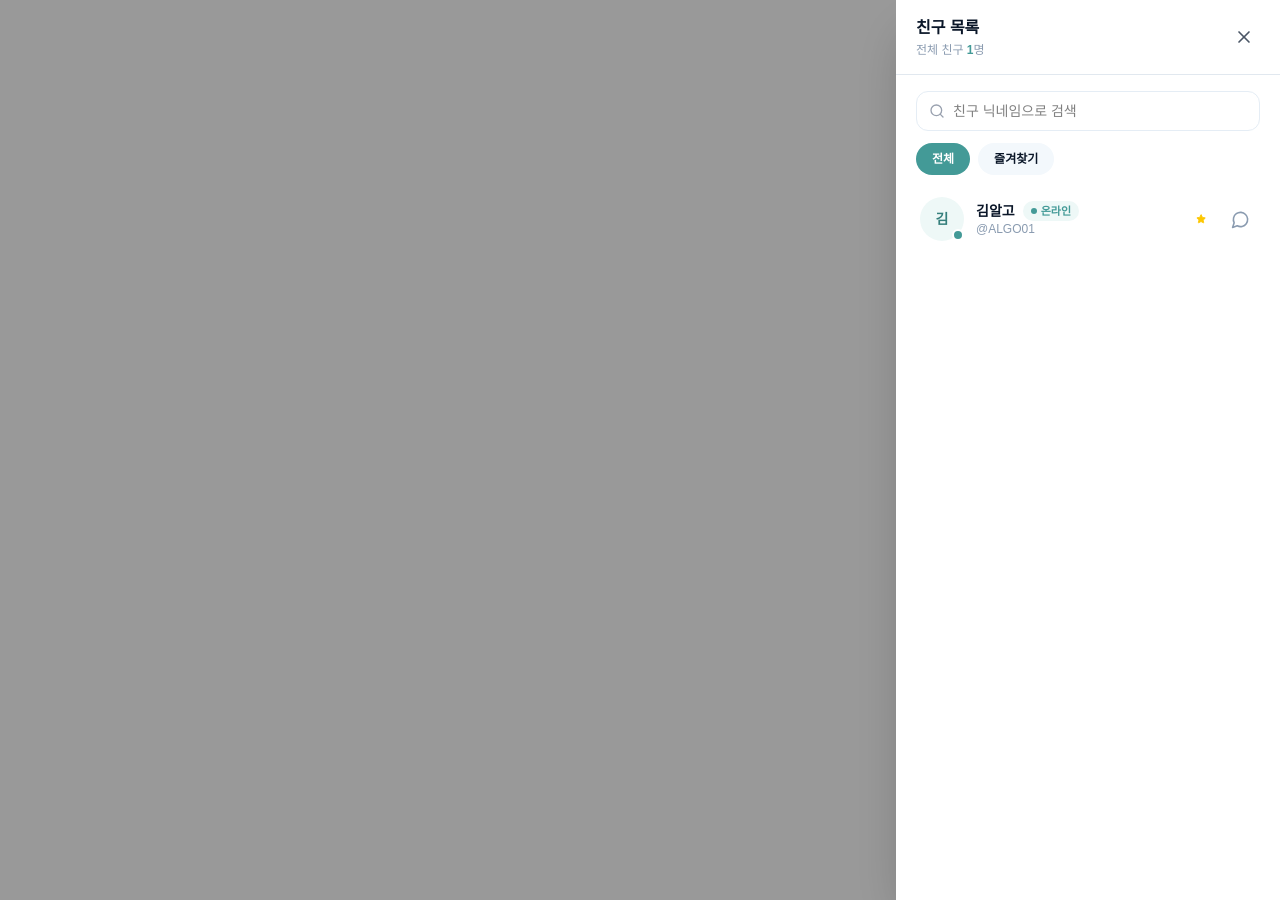
Test: FriendPanel 컴포넌트 테스트 › 즐겨찾기 API가 실패하면 원래 상태로 되돌린다
The width and height of the screenshot is (1280, 900).
Check: the text "김알고" is shown, box [976,201,1015,221]
Click the button named "즐겨찾기 추가": [1202, 219] box [1190,208,1213,230]
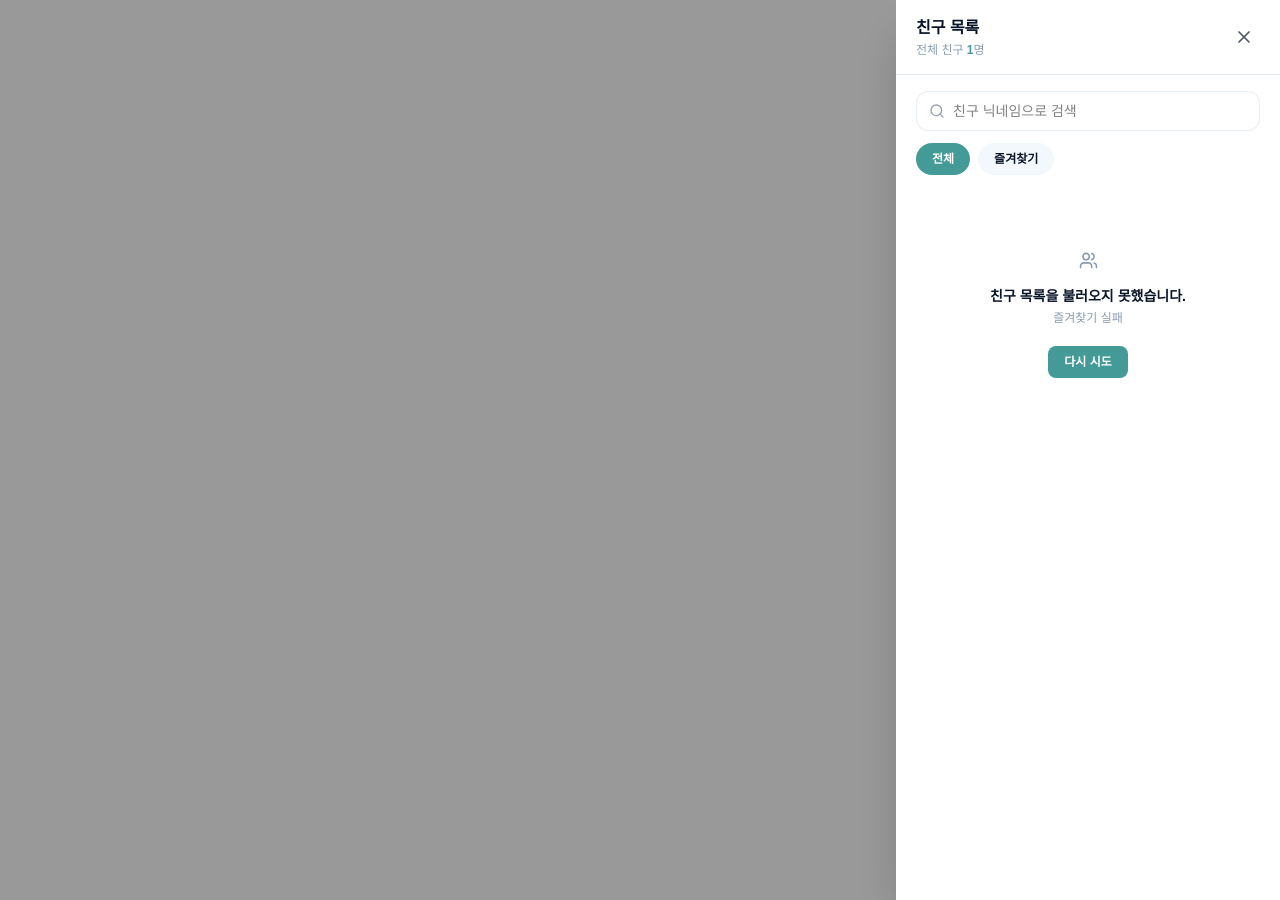
Check: the text "즐겨찾기 실패" is shown, box [1053,310,1123,326]
